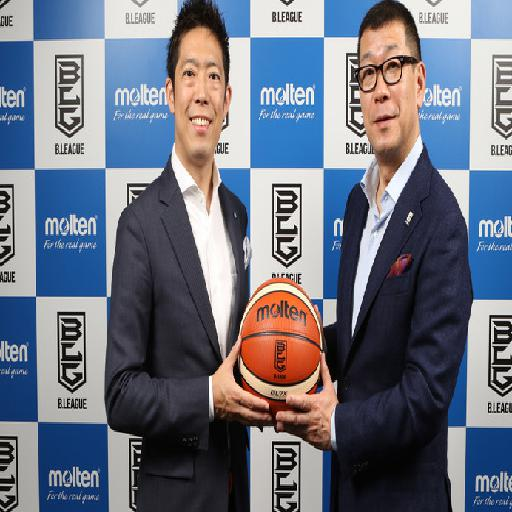ball: (236, 278, 321, 406)
